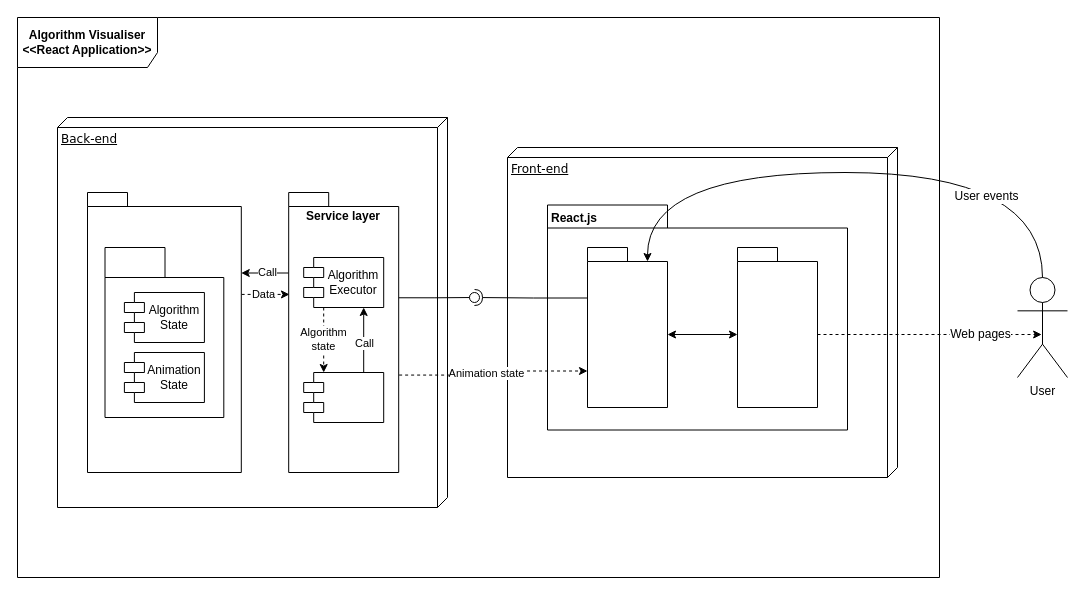
This 1085x595 diagram has some shape labels left out. The shapes that lost their labels are listed below. From the top down, each one's box as (x1, y1, x2, y2) in pixels, then its label:
(86, 192, 241, 472): Model layer
(104, 246, 224, 418): State Object
(586, 246, 668, 408): Controller layer
(736, 246, 818, 408): View layer
(303, 372, 384, 422): Animation State Producer
